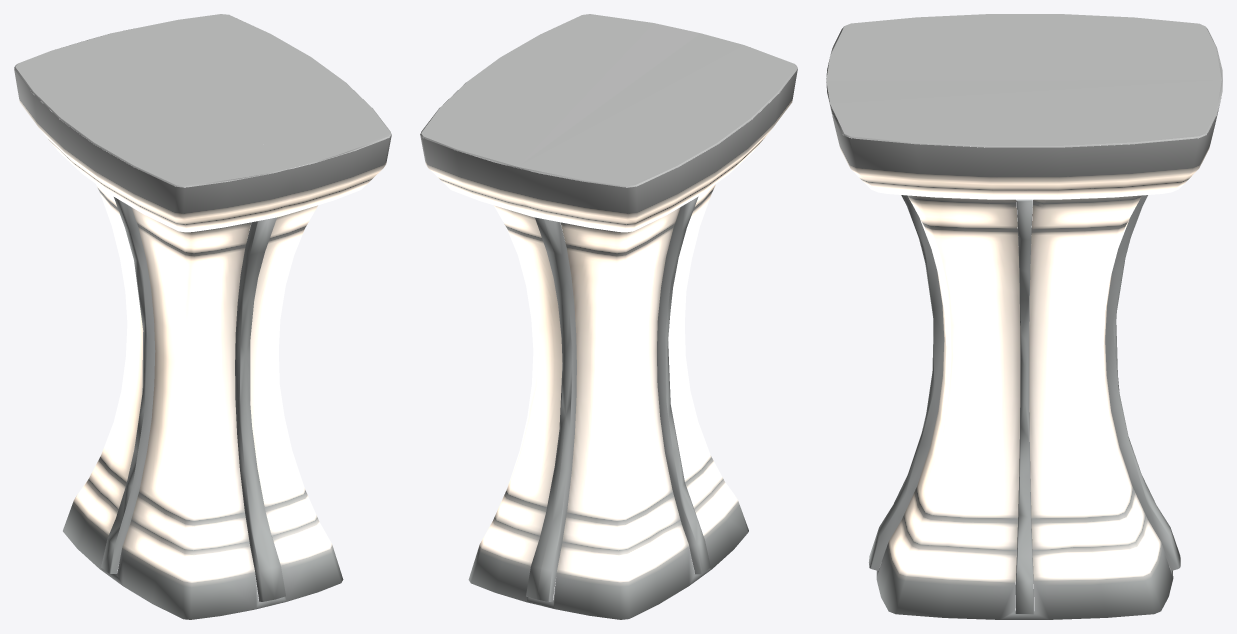
File: bar_table_3_a.glb
3 renders of one model, left to right at view 1: azimuth 30°, elevation 25°; view 2: azimuth 150°, elevation 25°; view 3: azimuth 270°, elevation 25°, orthographic. The views are drawn at different scales.
Visible parts, largest first — view 1: bar_table_3; view 2: bar_table_3; view 3: bar_table_3.
Part boxes in pixels (x1,y1,x2,y2): bar_table_3: (14,14,391,619); bar_table_3: (420,14,797,619); bar_table_3: (826,14,1222,619).
Bounding box in the file's own units: 0.6371 × 1.1 × 0.8015.
Materials: 1 (1 with a texture image).
